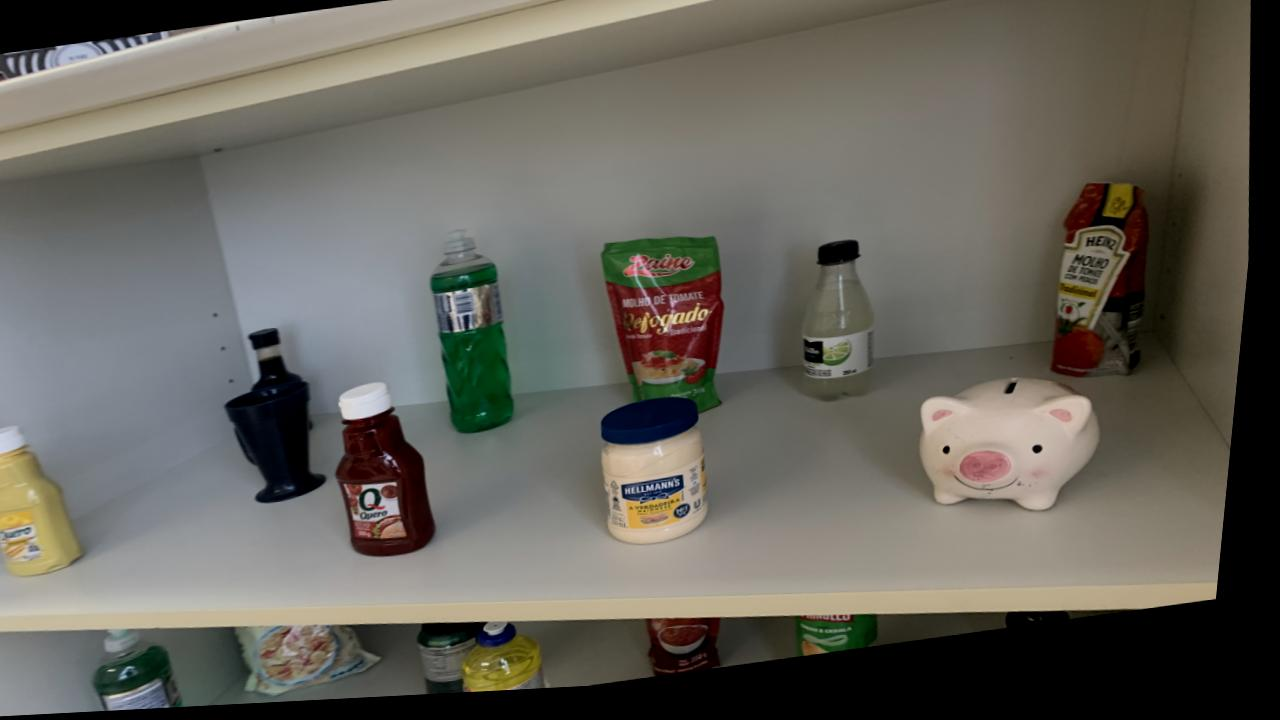Detergent-Cleanup_Items: (436, 235, 521, 439), (107, 631, 197, 713), (476, 628, 559, 698)
English_Sauce-Pantry_Items: (256, 331, 310, 394)
Flakes-Snacks: (250, 629, 393, 700)
Guarana_Can-Drinks: (431, 627, 496, 700)
Ketchup-Pantry_Items: (346, 387, 444, 561)
Mayonnaise-Pantry_Items: (609, 405, 718, 552)
Mustard-Pantry_Items: (0, 426, 93, 577)
Pig_Safe-Miscellaneous: (930, 389, 1109, 523)
Pringles-Snacks: (810, 624, 890, 666)
Soda-Drinks: (809, 249, 882, 410)
Tomato_Sauce-Pantry_Items: (607, 244, 731, 419), (1060, 195, 1154, 390), (659, 626, 735, 684)
